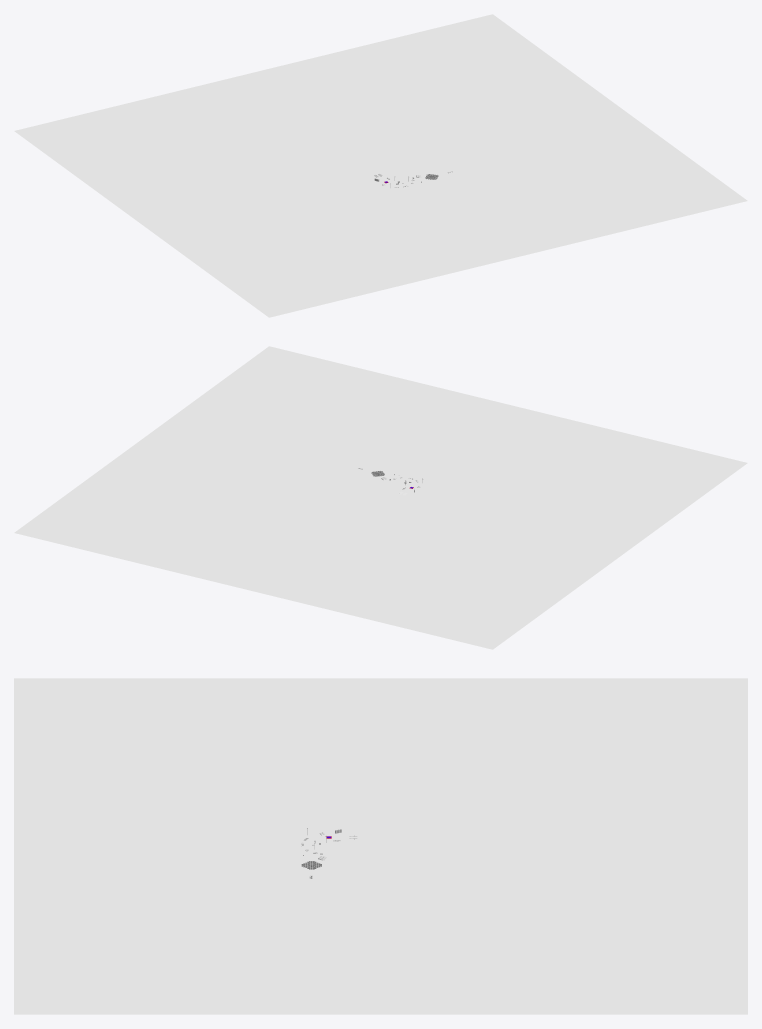
Rendered from nuclear_staffing_noHumans.glb.
3 renders of one model, top to bottom at view 1: azimuth 30°, elevation 25°; view 2: azimuth 150°, elevation 25°; view 3: azimuth 270°, elevation 25°, orthographic. The views are drawn at different scales.
Visible parts, largest first — view 1: floor; view 2: floor; view 3: floor.
Part boxes in pixels (<box>): floor: <box>14,14,747,317</box>; floor: <box>14,346,747,649</box>; floor: <box>14,678,747,1014</box>.
Size of the model in its own units: 969 by 10.17 by 894.
20 materials, 2 textured.
